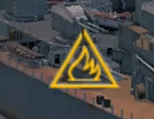1fire: (41, 59, 125, 91)
